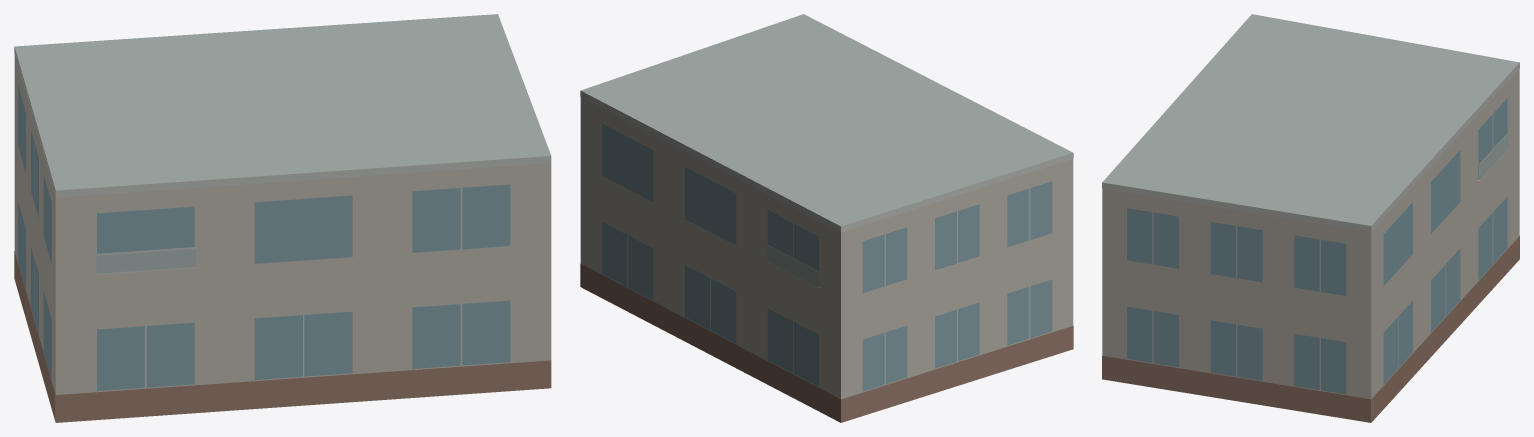
The model's file is survey-upis-32976073.glb.
The picture shows the model from 3 angles, left to right: view 1: azimuth 30°, elevation 25°; view 2: azimuth 150°, elevation 25°; view 3: azimuth 270°, elevation 25°; orthographic projection. The views are drawn at different scales.
Parts seen in each view (by area): view 1: survey-upis-32976073.tmp; view 2: survey-upis-32976073.tmp; view 3: survey-upis-32976073.tmp.
Part boxes in pixels (bbox=[...]): survey-upis-32976073.tmp: bbox=[14, 14, 551, 422]; survey-upis-32976073.tmp: bbox=[580, 14, 1073, 422]; survey-upis-32976073.tmp: bbox=[1102, 14, 1519, 422].
Bounding box in the file's own units: 18.25 × 7.9 × 15.2.
